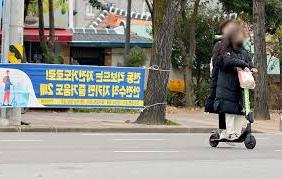multiple: (206, 19, 261, 150)
